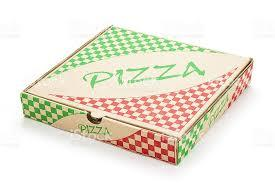Cardboard: (28, 12, 275, 167)
